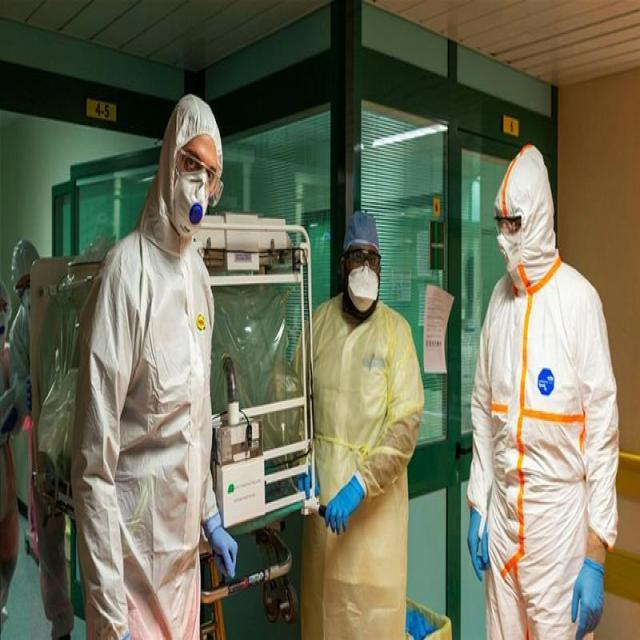Coverall: (72, 91, 223, 639), (464, 145, 619, 636), (297, 302, 424, 637), (4, 238, 70, 636)
Gloves: (570, 553, 607, 637), (322, 472, 365, 538), (204, 514, 239, 581), (466, 505, 491, 583), (403, 607, 436, 639), (295, 469, 322, 495)
Goggles: (171, 147, 225, 211), (344, 245, 384, 277), (490, 209, 524, 238)
Mask: (174, 166, 211, 242), (348, 263, 377, 312), (499, 233, 524, 266), (20, 287, 31, 316), (0, 314, 8, 346)
